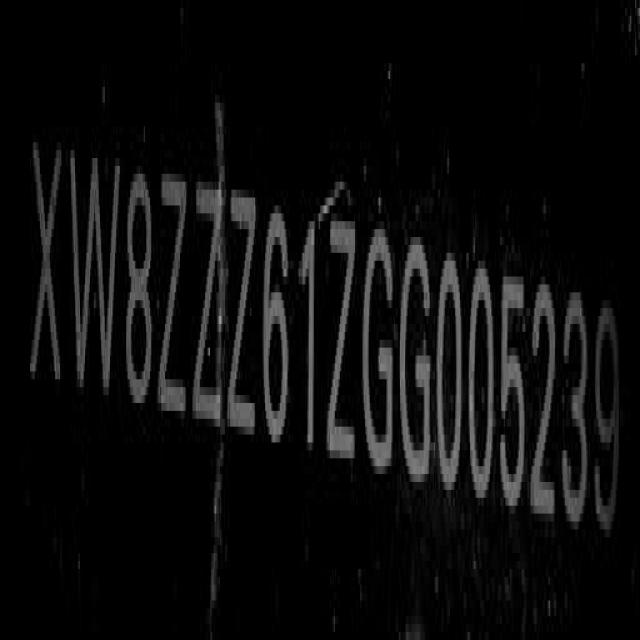0: (437, 240, 464, 497), (468, 253, 495, 508)
1: (301, 194, 320, 468)
2: (532, 268, 558, 525)
3: (564, 289, 590, 539)
5: (501, 254, 529, 515)
6: (262, 194, 292, 455)
8: (128, 156, 154, 422)
9: (595, 300, 623, 543)
G: (400, 223, 434, 491), (364, 208, 396, 484)
W: (73, 144, 119, 416)
X: (30, 128, 66, 410)
Z: (326, 188, 356, 479), (195, 171, 225, 443), (229, 172, 257, 449), (160, 154, 188, 428)
